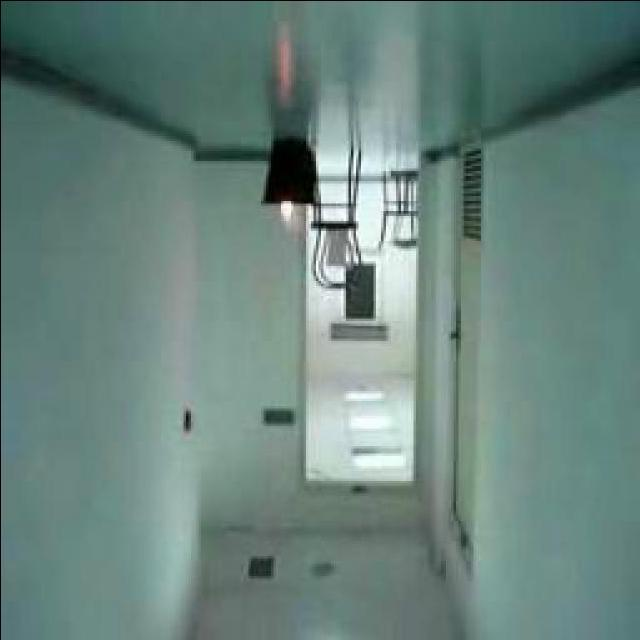Fire: (276, 201, 296, 233)
